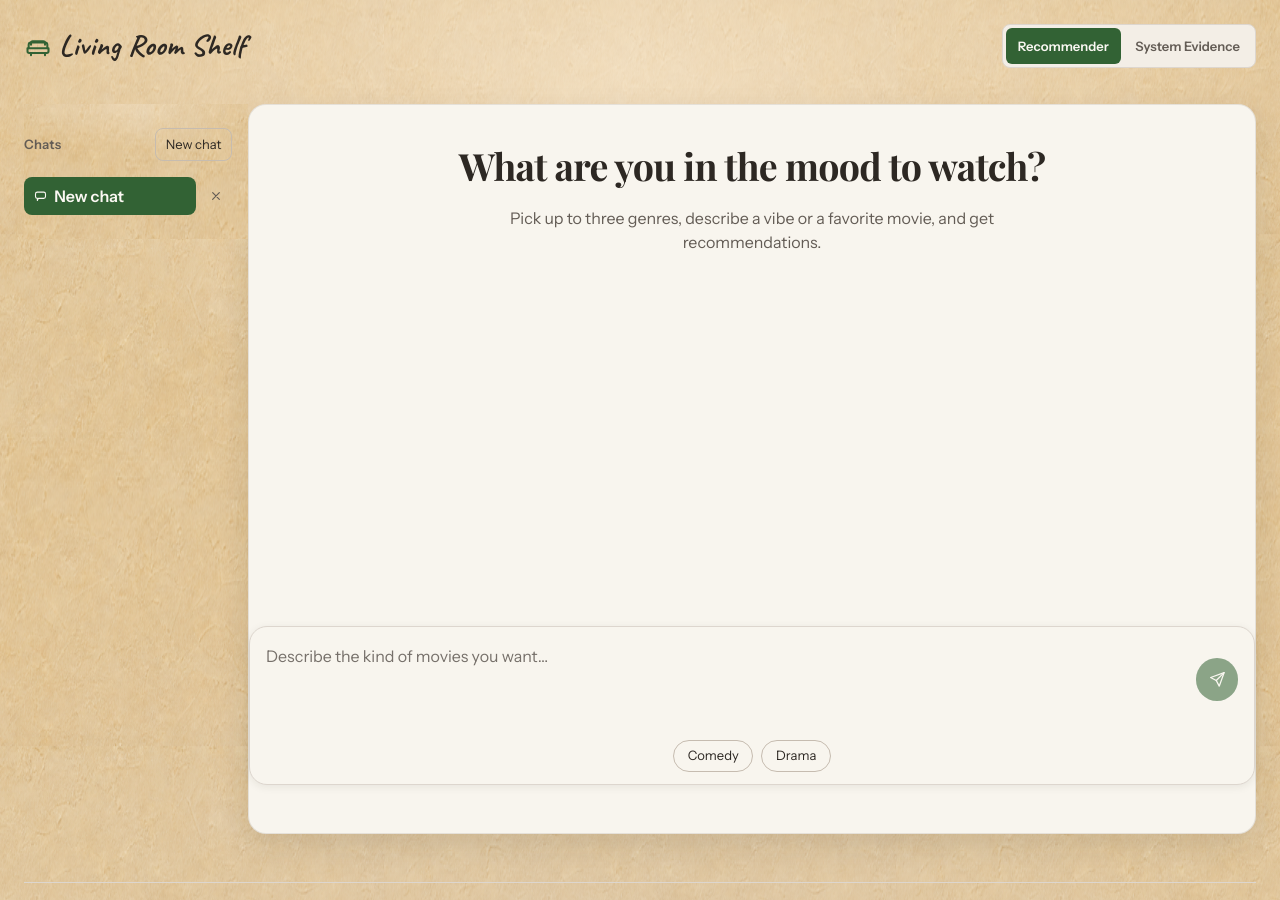
Test: App conversational RAG chat › shows current taste chips after recommendations
Click the button "Comedy": (713,756) [673,740,754,772]
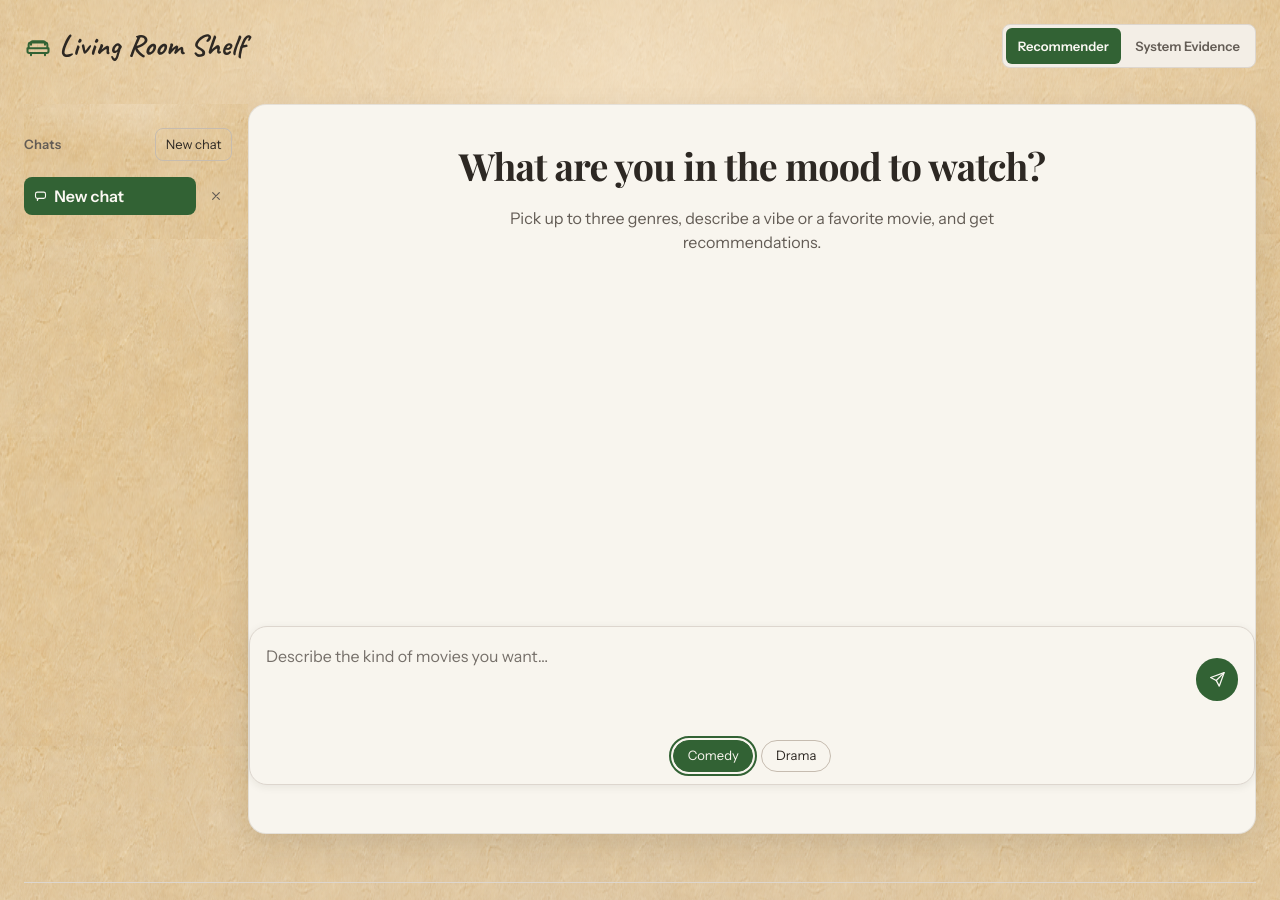
In the text box with placeholder "Describe the kind of movies you want…": (728,679) [266,639,1190,720], type "go"
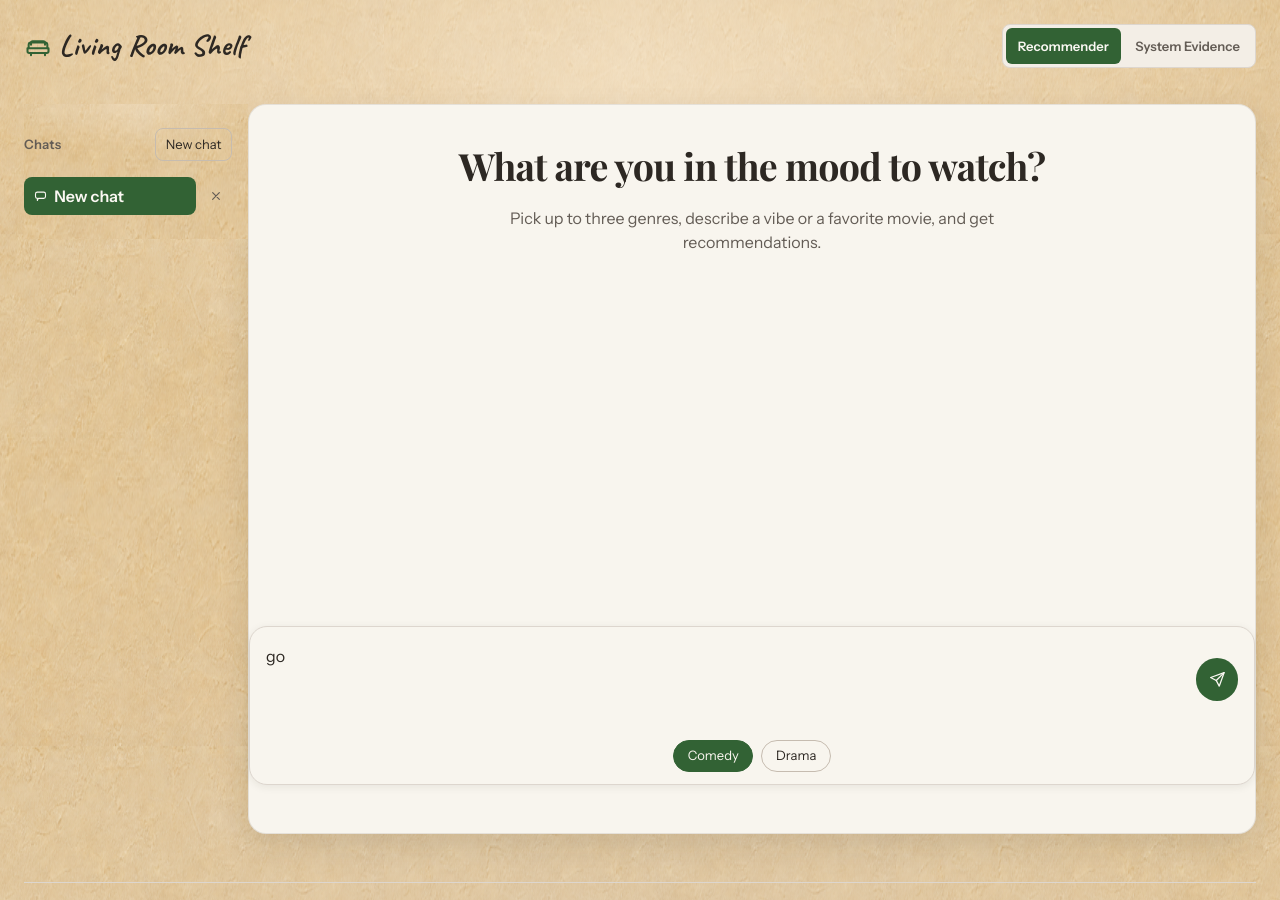
Click the button named "Send": (1217,679) [1196,658,1238,700]
(page scrolled)
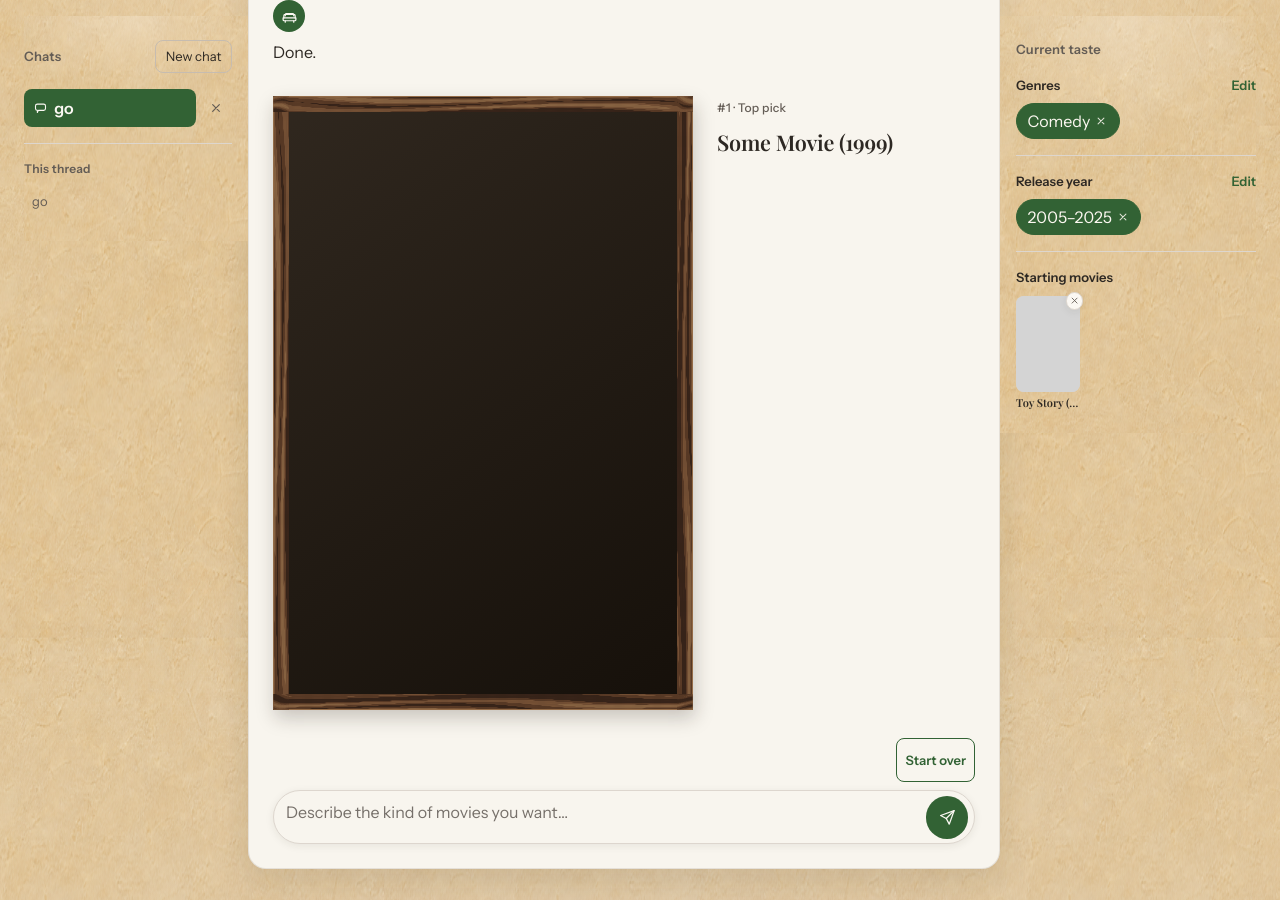
Check: the button "Comedy" is shown, box [1016,103,1120,139]
Check: the element with class "taste-rail--desktop" is shown, box [1000,16,1256,433]
Check: the text "Toy Story (1995)" is shown, box [1016,395,1080,409]
